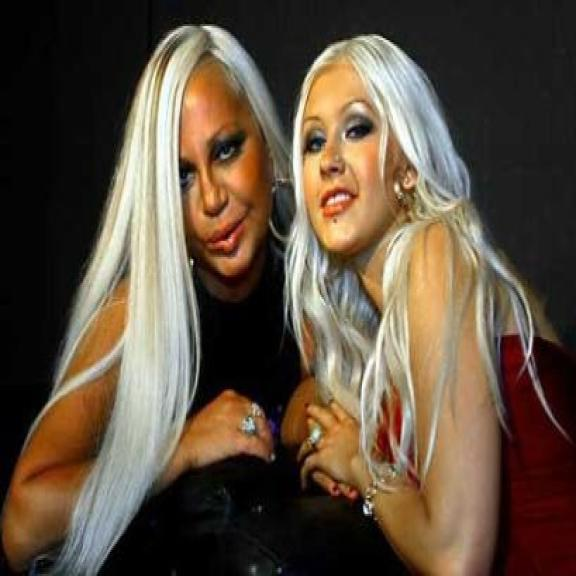face: (166, 67, 276, 287), (298, 68, 423, 259)
